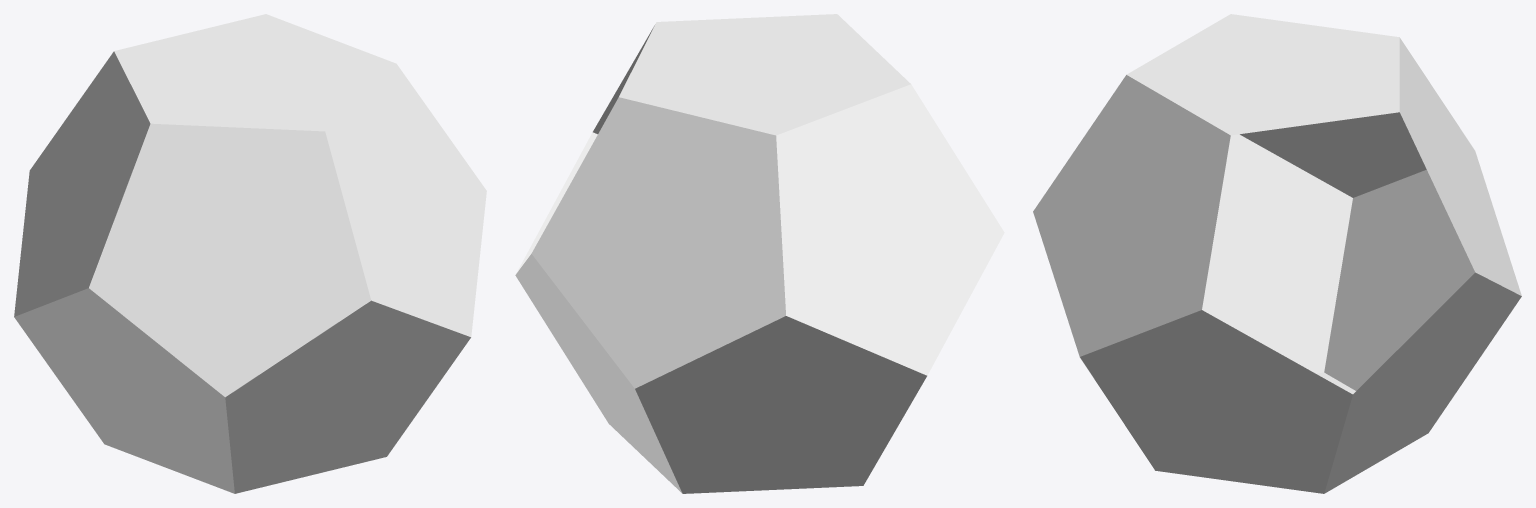
Rendered from dodeca.glb.
3 renders of one model, left to right at view 1: azimuth 30°, elevation 25°; view 2: azimuth 150°, elevation 25°; view 3: azimuth 270°, elevation 25°, orthographic. The views are drawn at different scales.
Parts seen in each view (by area): view 1: Mesh1_Group1_Model; view 2: Mesh1_Group1_Model; view 3: Mesh1_Group1_Model.
Boxes of the visible parts, bbox=[...] form: Mesh1_Group1_Model: bbox=[14, 14, 486, 493]; Mesh1_Group1_Model: bbox=[515, 14, 1004, 493]; Mesh1_Group1_Model: bbox=[1033, 14, 1521, 493].
Bounding box in the file's own units: 1.54 × 1.31 × 1.62.
1 material, 1 textured.
